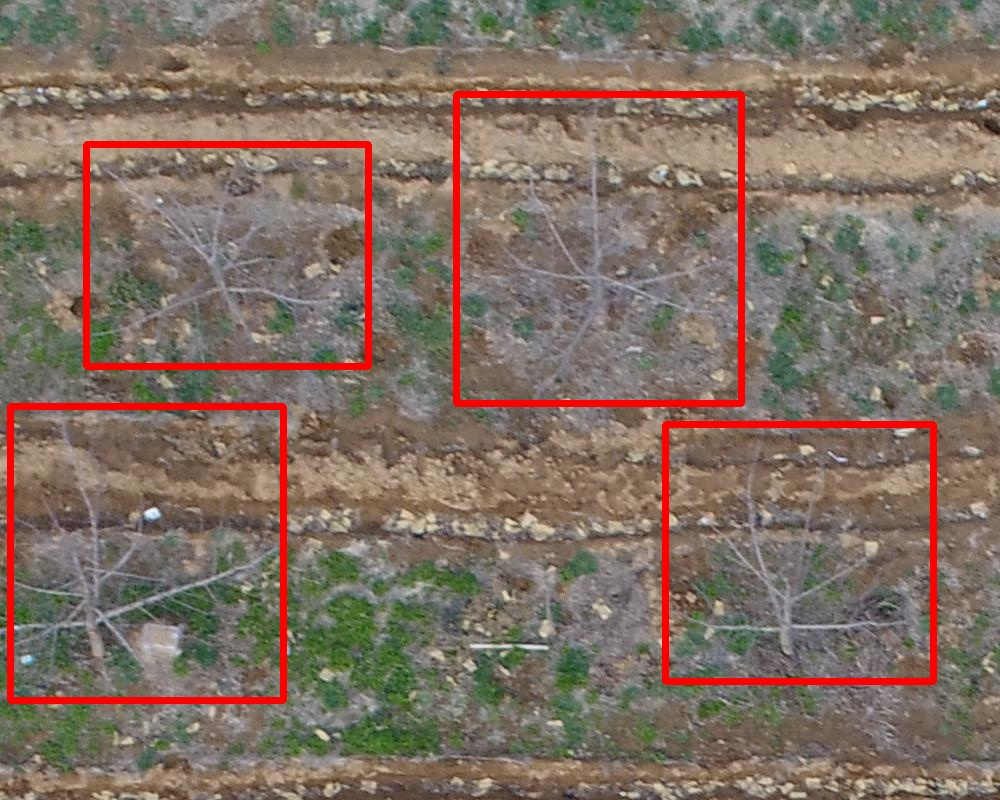apple: (456, 94, 741, 403), (10, 406, 283, 700), (665, 424, 933, 681), (86, 144, 368, 366)
